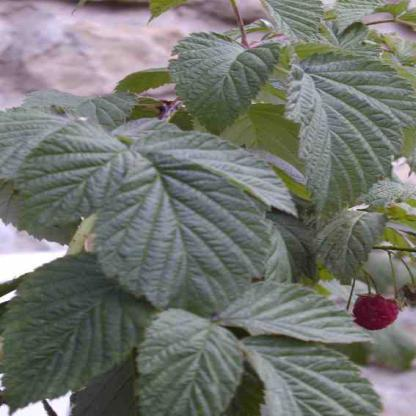raspberry leaf: (90, 146, 268, 323), (290, 51, 412, 253), (233, 327, 387, 415), (167, 26, 287, 133), (132, 310, 243, 415), (221, 274, 378, 348)
